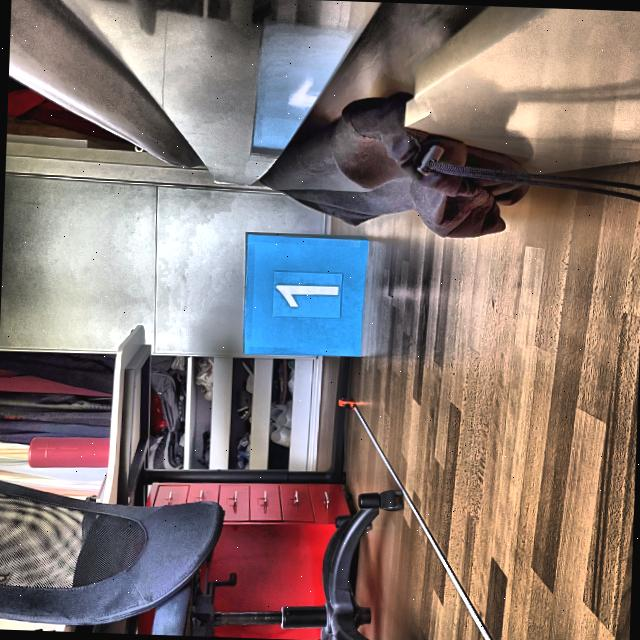blue box: (240, 230, 368, 358)
one: (272, 282, 340, 312)
